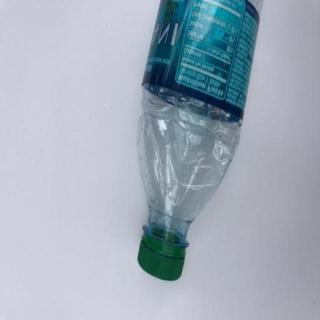Anorganik: (128, 1, 268, 286)
